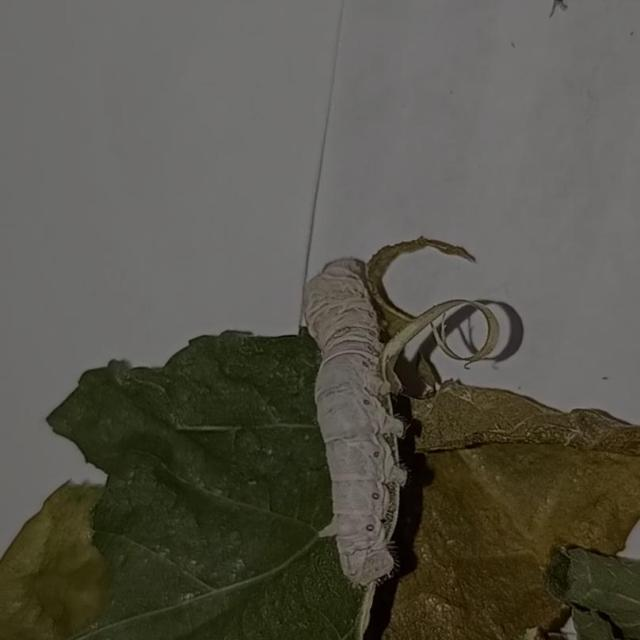Healthy: (285, 243, 441, 599)
